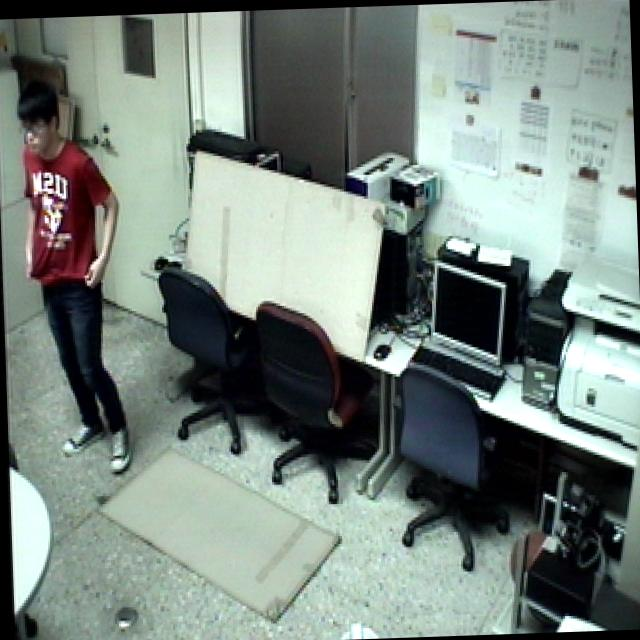stand: (12, 68, 138, 480)
